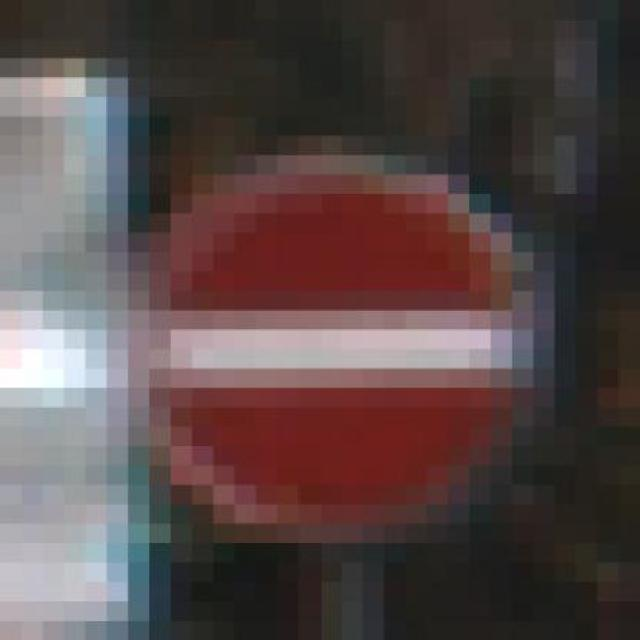B2: (133, 160, 522, 534)
